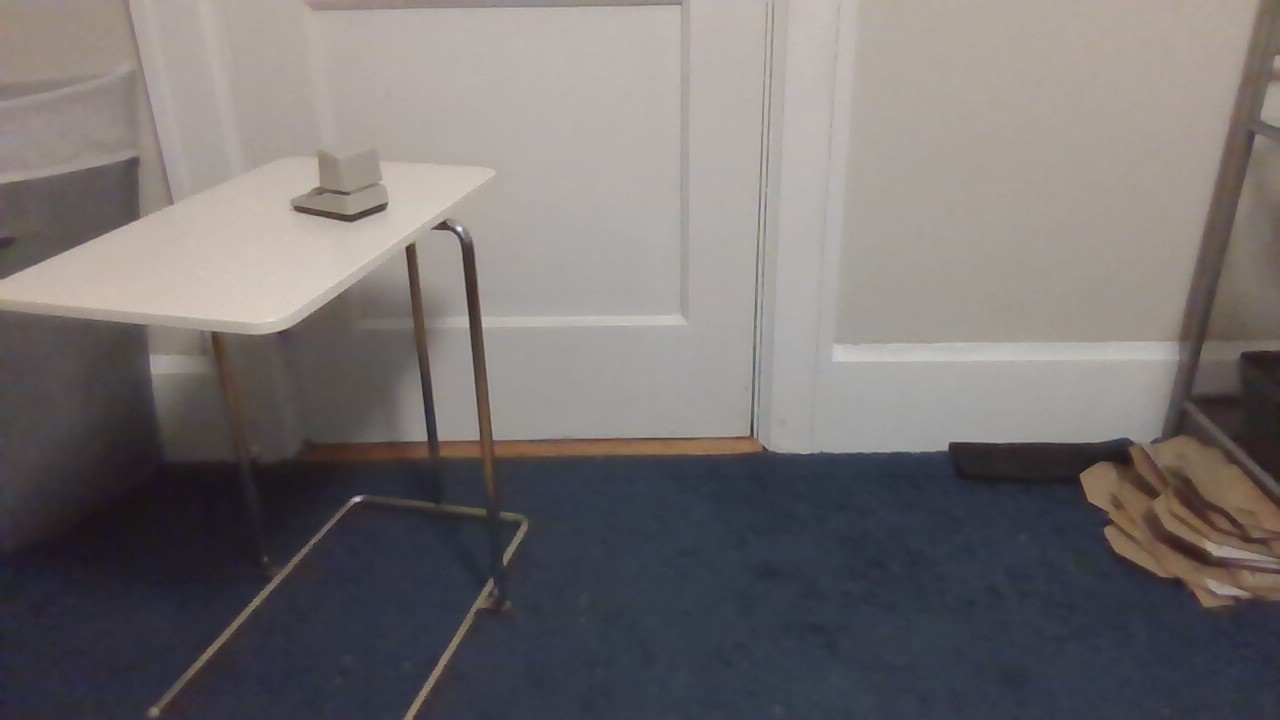Toy: (281, 135, 397, 226)
